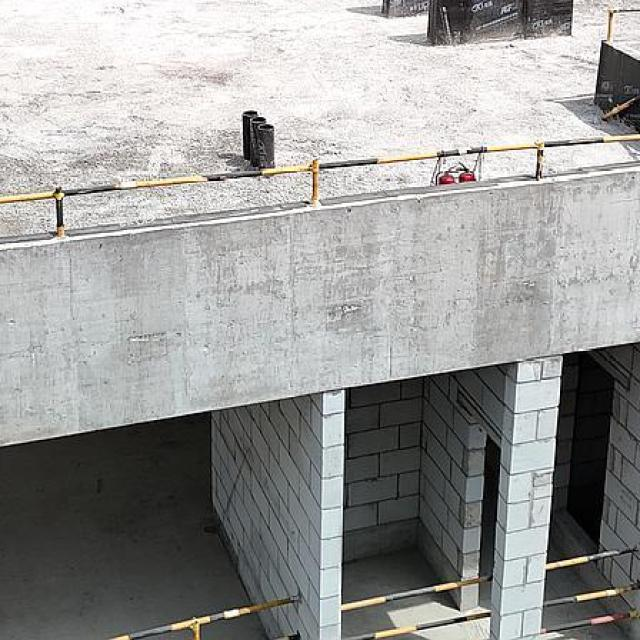edge_guardrail: (0, 132, 640, 239), (335, 574, 492, 640), (108, 590, 301, 640), (540, 547, 640, 640), (605, 7, 640, 43), (601, 93, 640, 120)
